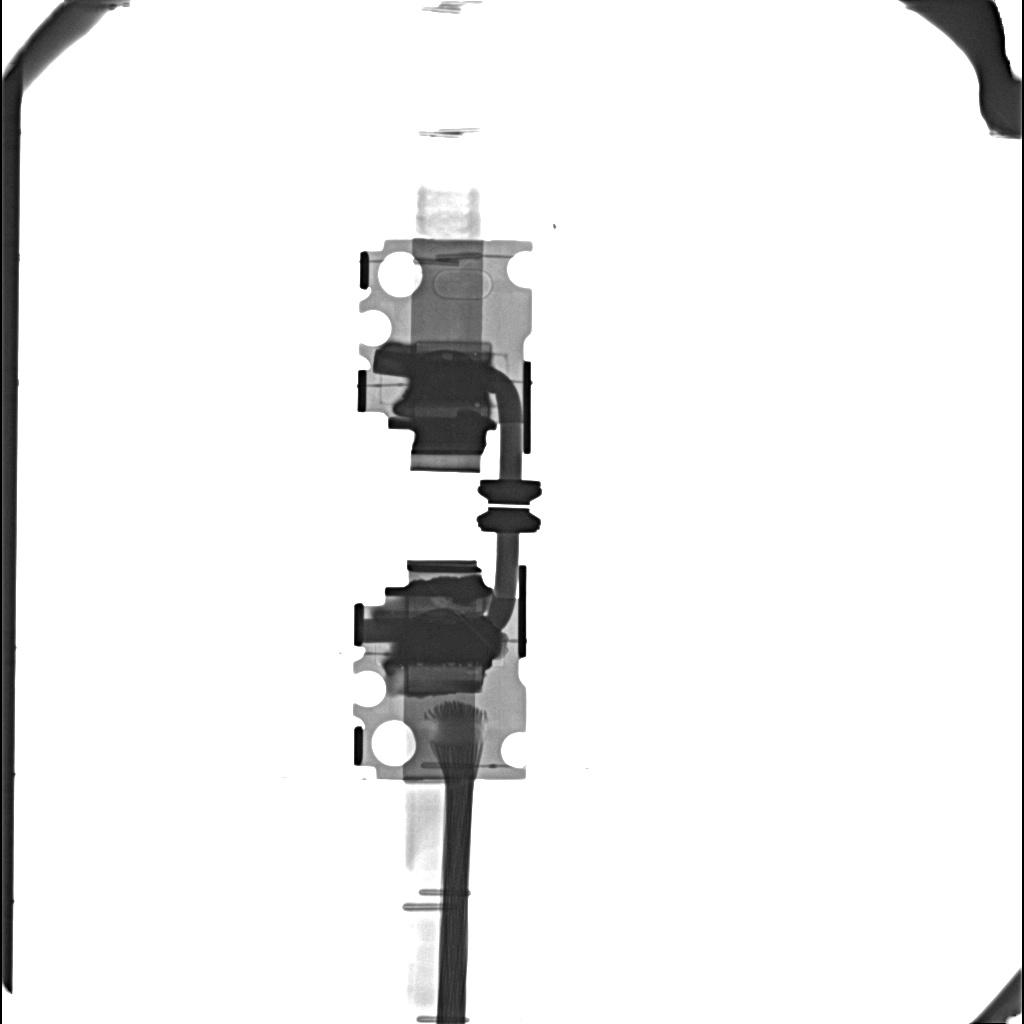PX: (406, 667, 487, 695), (414, 340, 493, 351)
SX: (398, 618, 500, 664), (409, 357, 487, 401)
